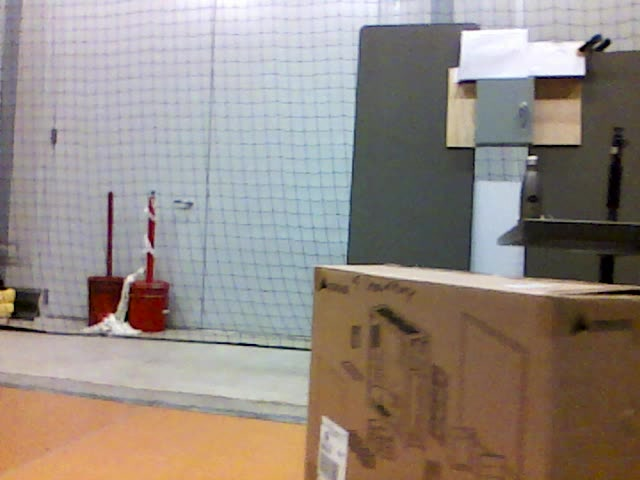box: (314, 262, 640, 477)
